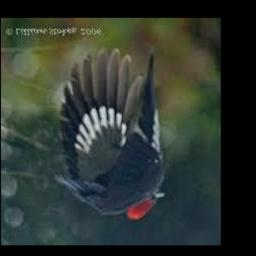Woodpecker: (54, 45, 165, 220)
